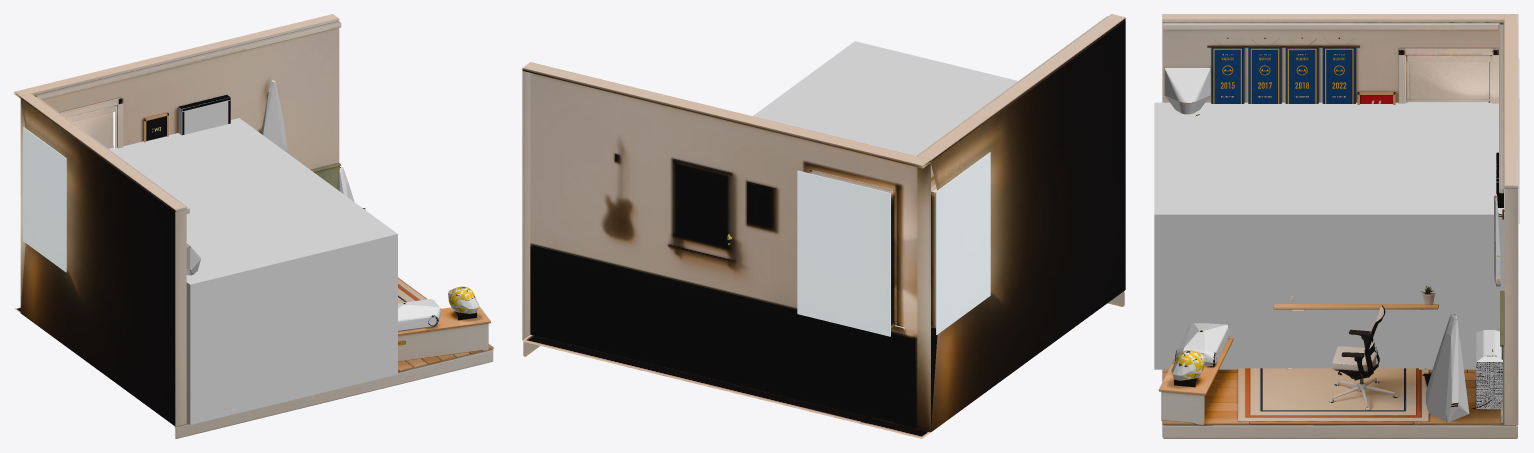
Rendered from office.glb.
3 renders of one model, left to right at view 1: azimuth 30°, elevation 25°; view 2: azimuth 150°, elevation 25°; view 3: azimuth 270°, elevation 25°, orthographic. The views are drawn at different scales.
Parts seen in each view (by area): view 1: STATIC_Room, FX_DustVolume, HIT_Jersey, HIT_Ferrari, HIT_Tele, HIT_Helmet; view 2: STATIC_Room, FX_DustVolume; view 3: FX_DustVolume, STATIC_Room, HIT_Acoustic, HIT_Amp, HIT_Hoop, HIT_Ferrari, VIS_Amp, HIT_Helmet, HIT_Tele, VIS_Helmet.
Part boxes in pixels (bbox=[...]): STATIC_Room: bbox=[14, 14, 493, 438]; FX_DustVolume: bbox=[110, 118, 397, 424]; HIT_Jersey: bbox=[178, 97, 230, 135]; HIT_Ferrari: bbox=[398, 299, 440, 331]; HIT_Tele: bbox=[261, 80, 287, 151]; HIT_Helmet: bbox=[448, 286, 479, 313]; STATIC_Room: bbox=[522, 14, 1125, 438]; FX_DustVolume: bbox=[753, 41, 1017, 192]; FX_DustVolume: bbox=[1154, 102, 1504, 369]; STATIC_Room: bbox=[1158, 14, 1519, 438]; HIT_Acoustic: bbox=[1425, 314, 1469, 422]; HIT_Amp: bbox=[1476, 330, 1502, 409]; HIT_Hoop: bbox=[1164, 68, 1210, 114]; HIT_Ferrari: bbox=[1175, 323, 1229, 365]; VIS_Amp: bbox=[1476, 355, 1502, 409]; HIT_Helmet: bbox=[1171, 350, 1204, 380]; HIT_Tele: bbox=[1494, 194, 1500, 286]; VIS_Helmet: bbox=[1171, 350, 1204, 380].
Bounding box in the file's own units: 4.09 × 2.79 × 3.63.
21 materials, 17 textured.
